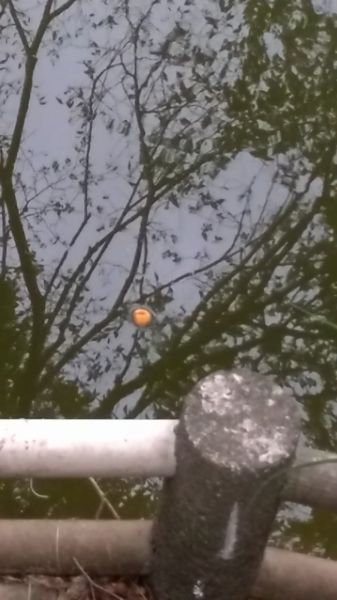eggs: (128, 304, 159, 329)
